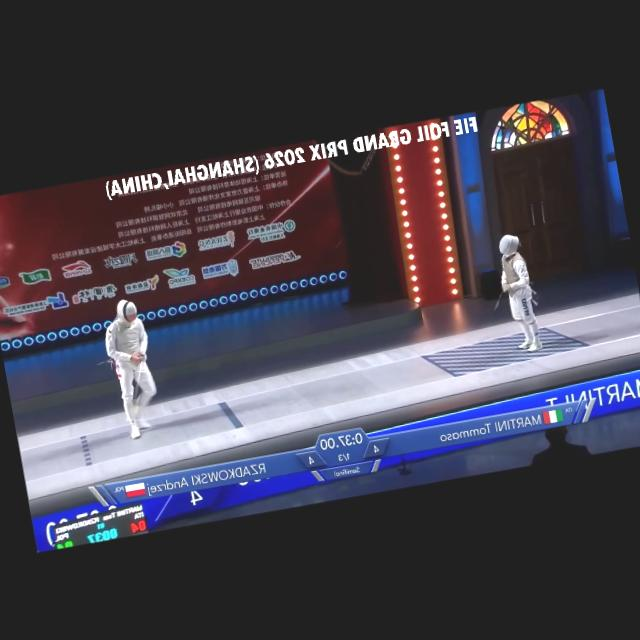blade: (117, 349, 158, 420), (478, 284, 514, 320)
